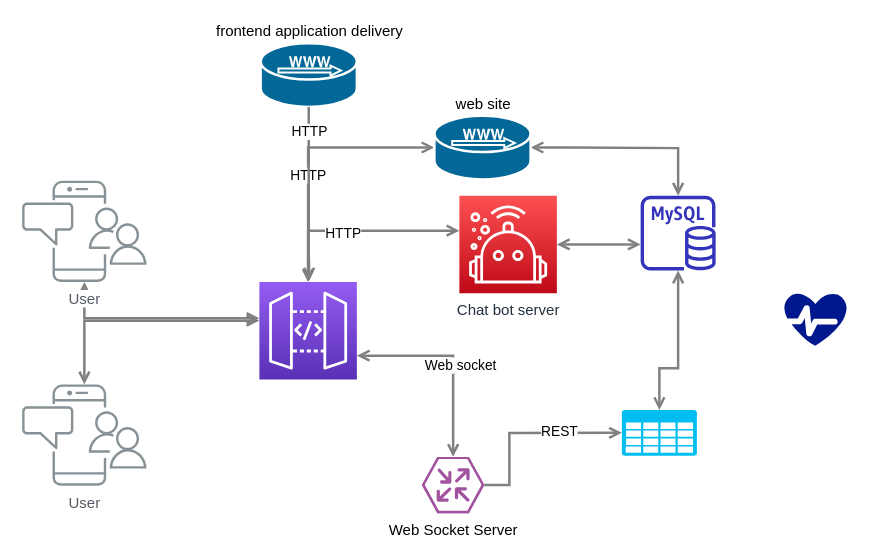
This 871x560 diagram has some shape labels left out. Here are the shapes that lost their labels. From the top down, the box of each, then its label:
(258, 281, 357, 379): Nginx router HTTP, Web Socket
(784, 292, 846, 345): Monitoring
(621, 409, 696, 455): Game Score Service
